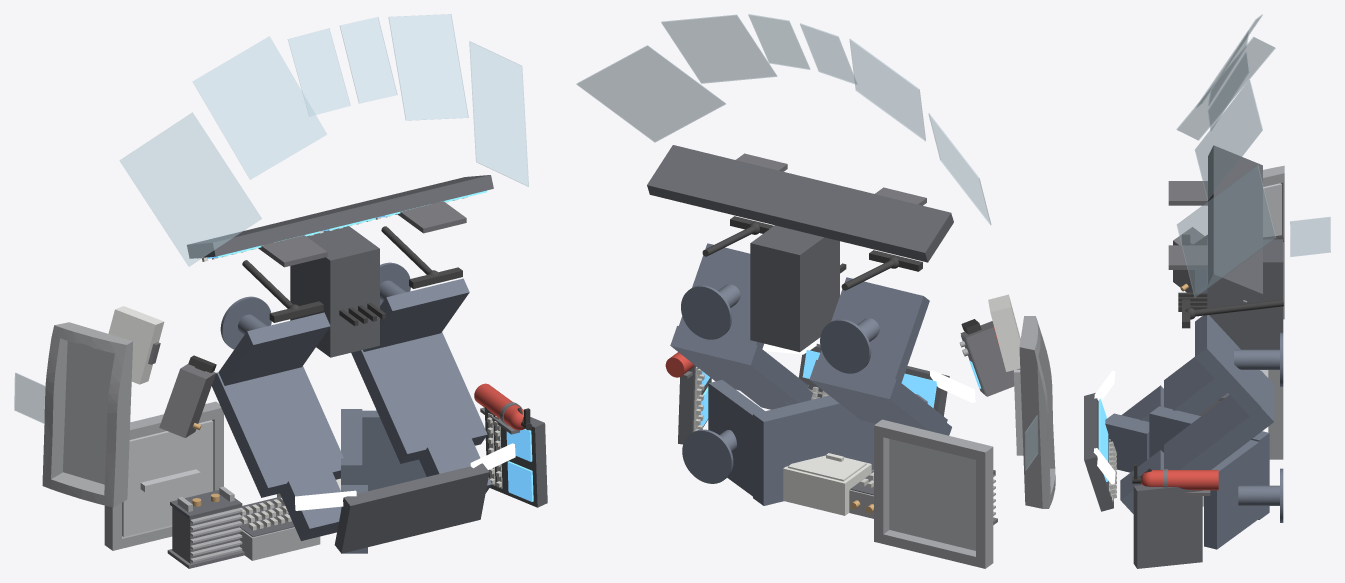
Rendered from cockpit03_airliner_flight_deck_open_cutaway.glb.
3 renders of one model, left to right at view 1: azimuth 30°, elevation 25°; view 2: azimuth 150°, elevation 25°; view 3: azimuth 270°, elevation 25°, orthographic. The views are drawn at different scales.
Parts seen in each view (by area): view 1: window_glass_inner, seat_1, seat_2, hatch_tunnel_1, overhead_panel, centre_pedestal, hatch_door_2, main_panel, hatch_door_1, seat_3, hatch_tunnel_2, eq15_1_body (+14 smaller); view 2: window_glass_inner, main_panel, seat_3, seat_1, seat_2, centre_pedestal, hatch_door_2, hatch_tunnel_2, hatch_tunnel_1, stowage_lockers, eq15_1_body, eq14_1_case (+5 smaller); view 3: window_glass_inner, seat_2, seat_3, main_panel, engineer_panel, centre_pedestal, seat_1, overhead_panel, eq13_1_bottle, hatch_tunnel_2, rudder_pedals_1, rudder_pedals_2 (+8 smaller).
Boxes of the visible parts, box(x1,y1,x2,y2) form: window_glass_inner: box(14, 14, 528, 423); seat_1: box(212, 296, 343, 540); seat_2: box(351, 262, 491, 492); hatch_tunnel_1: box(42, 322, 133, 507); overhead_panel: box(334, 463, 489, 553); centre_pedestal: box(290, 226, 379, 357); hatch_door_2: box(122, 420, 213, 536); main_panel: box(187, 175, 493, 258); hatch_door_1: box(63, 341, 114, 484); seat_3: box(341, 409, 426, 553); hatch_tunnel_2: box(104, 401, 223, 550); eq15_1_body: box(159, 364, 215, 437); window_glass_inner: box(576, 14, 1038, 470); main_panel: box(647, 145, 953, 262); seat_3: box(682, 380, 927, 505); seat_1: box(809, 277, 951, 435); seat_2: box(670, 243, 812, 409); centre_pedestal: box(750, 225, 839, 352); hatch_door_2: box(889, 439, 975, 550); hatch_tunnel_2: box(874, 419, 993, 568); hatch_tunnel_1: box(1019, 316, 1055, 508); stowage_lockers: box(783, 453, 871, 515); eq15_1_body: box(960, 321, 1020, 396); eq14_1_case: box(988, 294, 1020, 371); window_glass_inner: box(1176, 14, 1330, 297); seat_2: box(1120, 315, 1283, 513); seat_3: box(1105, 406, 1283, 549); main_panel: box(1208, 145, 1262, 304); engineer_panel: box(1133, 485, 1202, 568); centre_pedestal: box(1207, 239, 1283, 349); seat_1: box(1121, 270, 1227, 421); overhead_panel: box(1084, 393, 1113, 511); eq13_1_bottle: box(1141, 470, 1218, 490); hatch_tunnel_2: box(1268, 370, 1283, 459); rudder_pedals_1: box(1168, 181, 1207, 205); rudder_pedals_2: box(1168, 245, 1207, 269).
Size of the model in its own units: 3.1 by 2.99 by 1.46.
